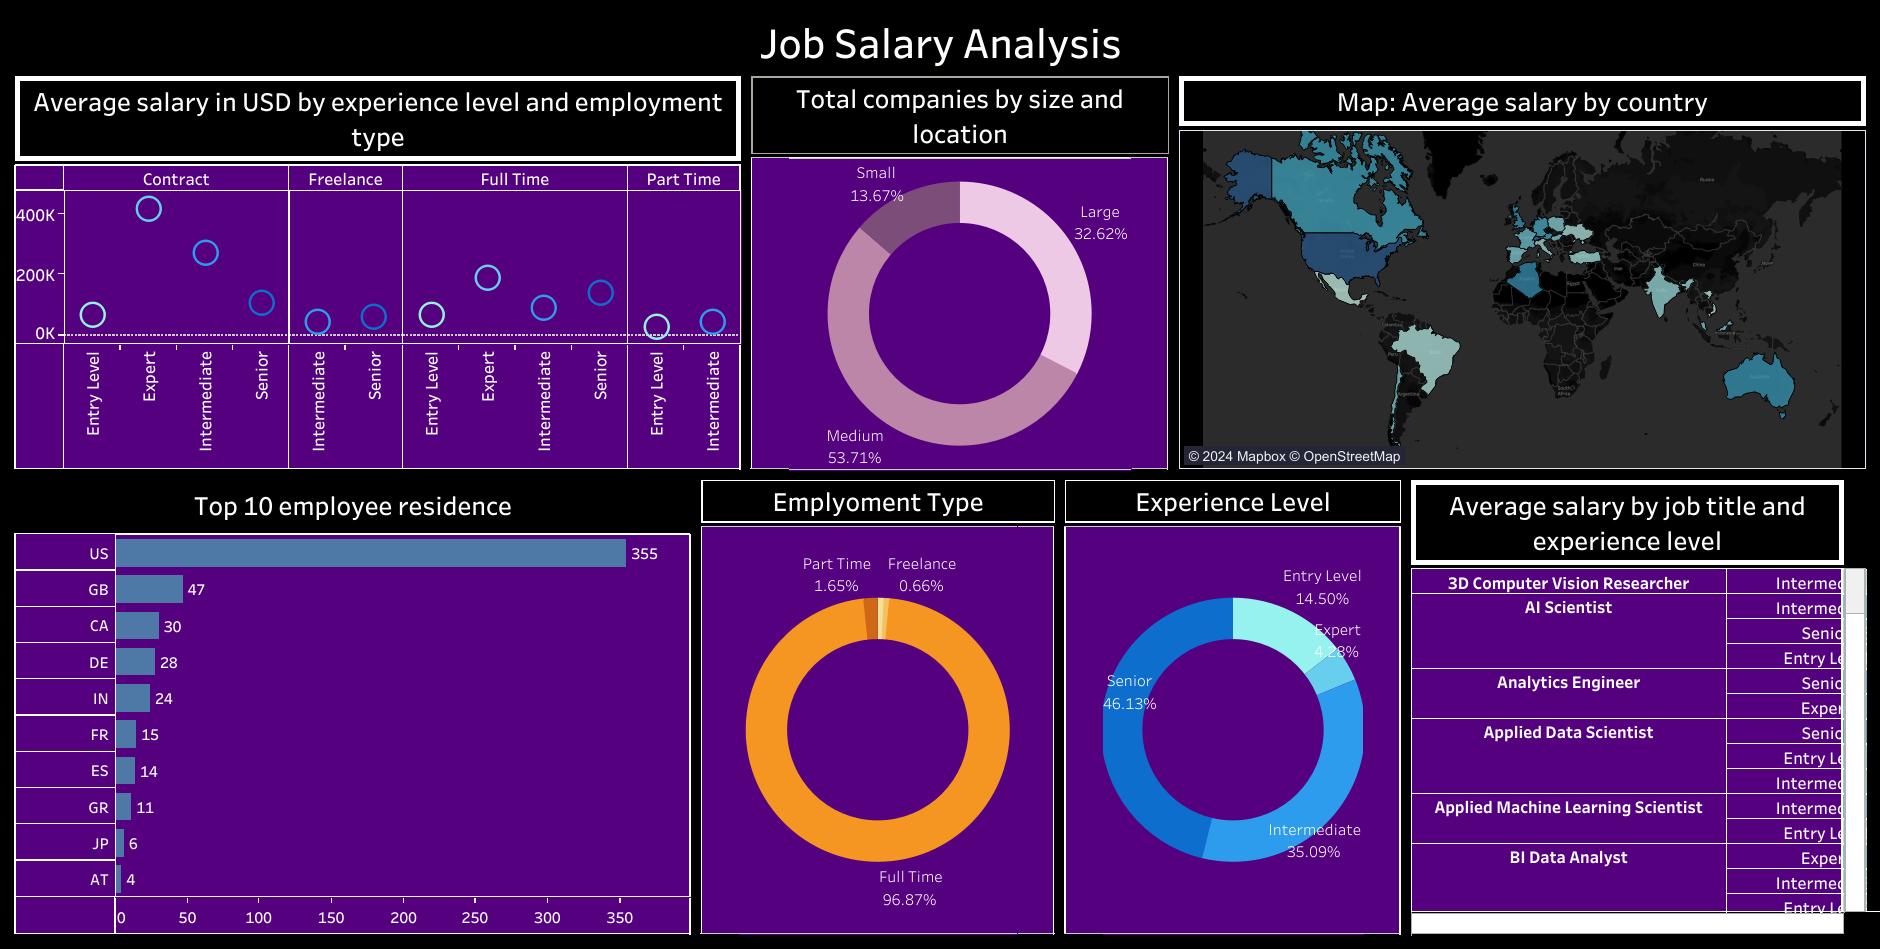

Layout of this report page (visuals, bound fields, positions):
{"tool":"tableau","page":{"name":"Dashboard 1","canvas":[1000,1000],"units":"permille","ordinal":0},"visuals":[{"type":"text","box":[4.8,10,990.3,64.9]},{"type":"worksheet","title":"Average salary in USD by experience level and employment type","mark":"Shape","rows":["salary_in_usd"],"cols":["employment_type","experience_level"],"box":[4.8,74.9,391.9,424.9]},{"type":"worksheet","title":"Total companies by size and location","mark":"Pie","rows":["Calculation_511158580910301185","Calculation_511158580910301185"],"box":[396.8,74.9,227.3,424.9]},{"type":"worksheet","title":"Map: Average salary by country","mark":"Automatic","box":[624,74.9,371.1,424.9]},{"type":"worksheet","title":"Top 10 employee residence","mark":"Automatic","rows":["company_location"],"cols":["company_location"],"box":[4.8,499.8,365,490.2]},{"type":"worksheet","title":"Emplyoment Type","mark":"Pie","rows":["Calculation_511158580910301185","Calculation_511158580910301185"],"box":[369.9,499.8,193.8,490.2]},{"type":"worksheet","title":"Experience Level","mark":"Pie","rows":["Calculation_511158580910301185","Calculation_511158580910301185"],"box":[563.6,499.8,183.9,490.2]},{"type":"worksheet","title":"Average salary by job title and experience level","mark":"Square","rows":["job_title","experience_level"],"box":[747.5,499.8,247.6,490.2]}]}

Visuals, with their boxes on the dashboard's canvas, which has no fixed pixel size, in thousandths of its width and height (x1, y1, x2, y2). These are canvas units, not pixel positions in the 1880x949 screenshot, which may show the page scaled, cropped or inside an application window:
text: bbox(5, 10, 995, 75)
"Average salary in USD by experience level and employment type" worksheet (Shape marks): bbox(5, 75, 397, 500)
"Total companies by size and location" worksheet (Pie marks): bbox(397, 75, 624, 500)
"Map: Average salary by country" worksheet: bbox(624, 75, 995, 500)
"Top 10 employee residence" worksheet: bbox(5, 500, 370, 990)
"Emplyoment Type" worksheet (Pie marks): bbox(370, 500, 564, 990)
"Experience Level" worksheet (Pie marks): bbox(564, 500, 748, 990)
"Average salary by job title and experience level" worksheet (Square marks): bbox(748, 500, 995, 990)
